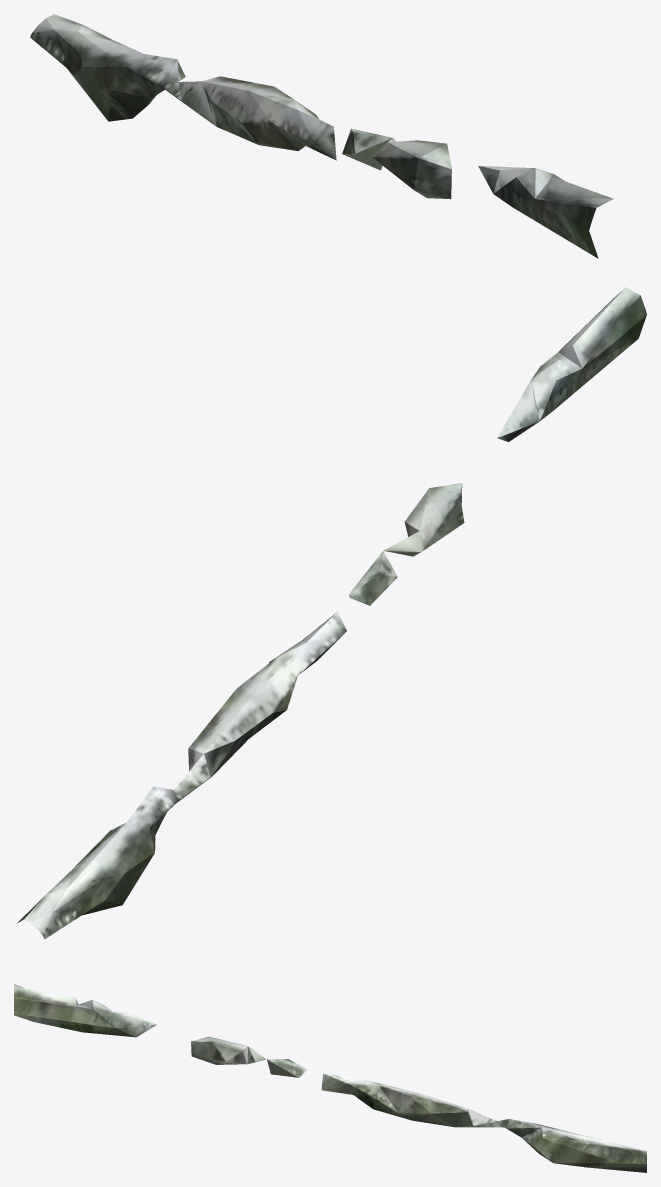
3 renders of one model, top to bottom at view 1: azimuth 30°, elevation 25°; view 2: azimuth 150°, elevation 25°; view 3: azimuth 270°, elevation 25°, orthographic. The views are drawn at different scales.
Size of the model in its own units: 0.2952 by 0.8709 by 2.95.
Materials: 1 (1 with a texture image).
